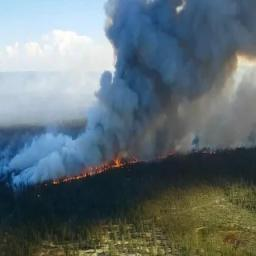Heavy smoke: (0, 0, 256, 204)
Small fire: (45, 141, 176, 188)
